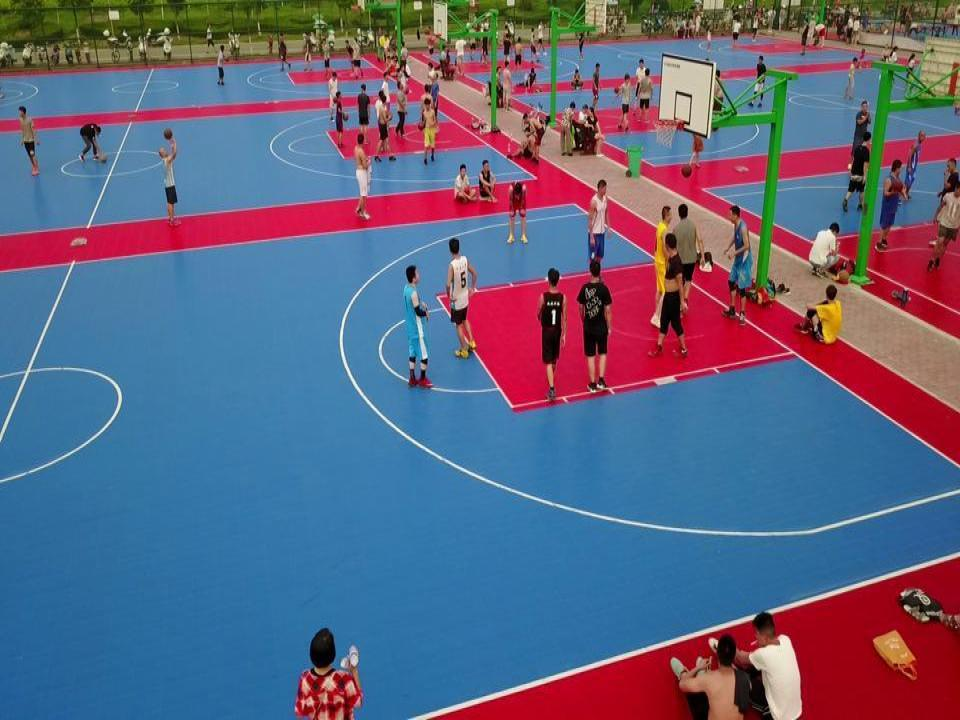car: (36, 44, 60, 60), (49, 44, 63, 71), (21, 40, 34, 69)
